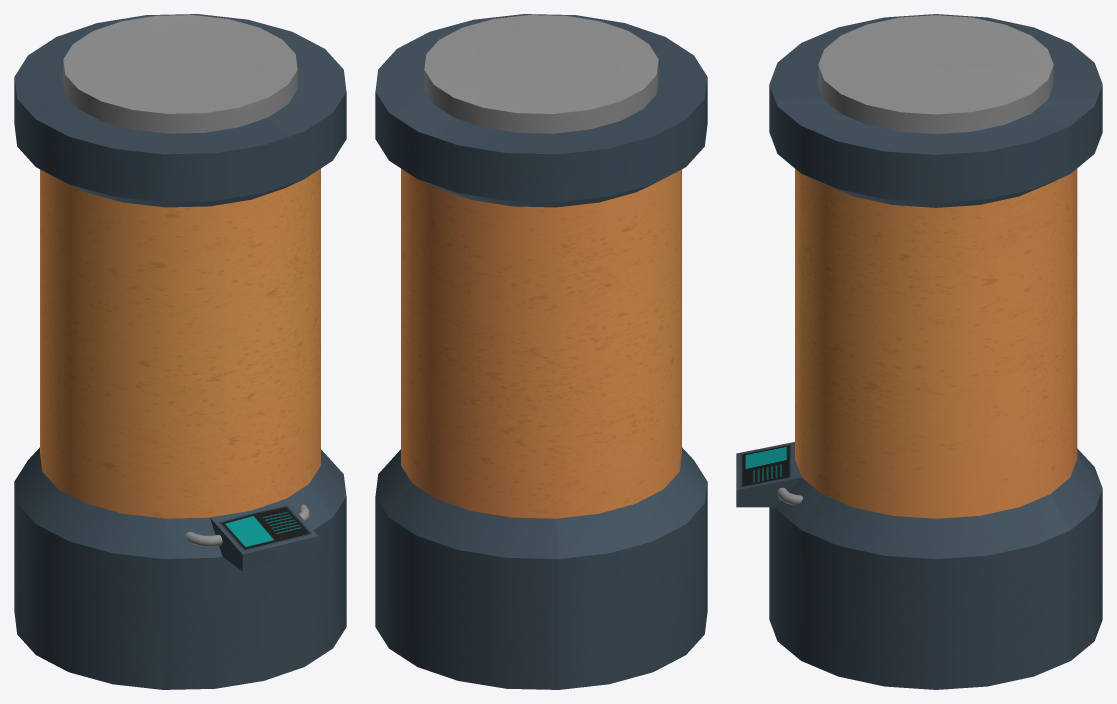
3 views of the same model, side by side, from view 1: azimuth 30°, elevation 25°; view 2: azimuth 150°, elevation 25°; view 3: azimuth 270°, elevation 25° (orthographic).
Parts seen in each view (by area): view 1: pCylinder15; view 2: pCylinder15; view 3: pCylinder15.
Boxes of the visible parts, bbox=[...] form: pCylinder15: bbox=[14, 14, 346, 689]; pCylinder15: bbox=[375, 14, 707, 689]; pCylinder15: bbox=[736, 14, 1102, 689].
Size of the model in its own units: 1.51 by 2.77 by 1.66.
1 material, 1 textured.
